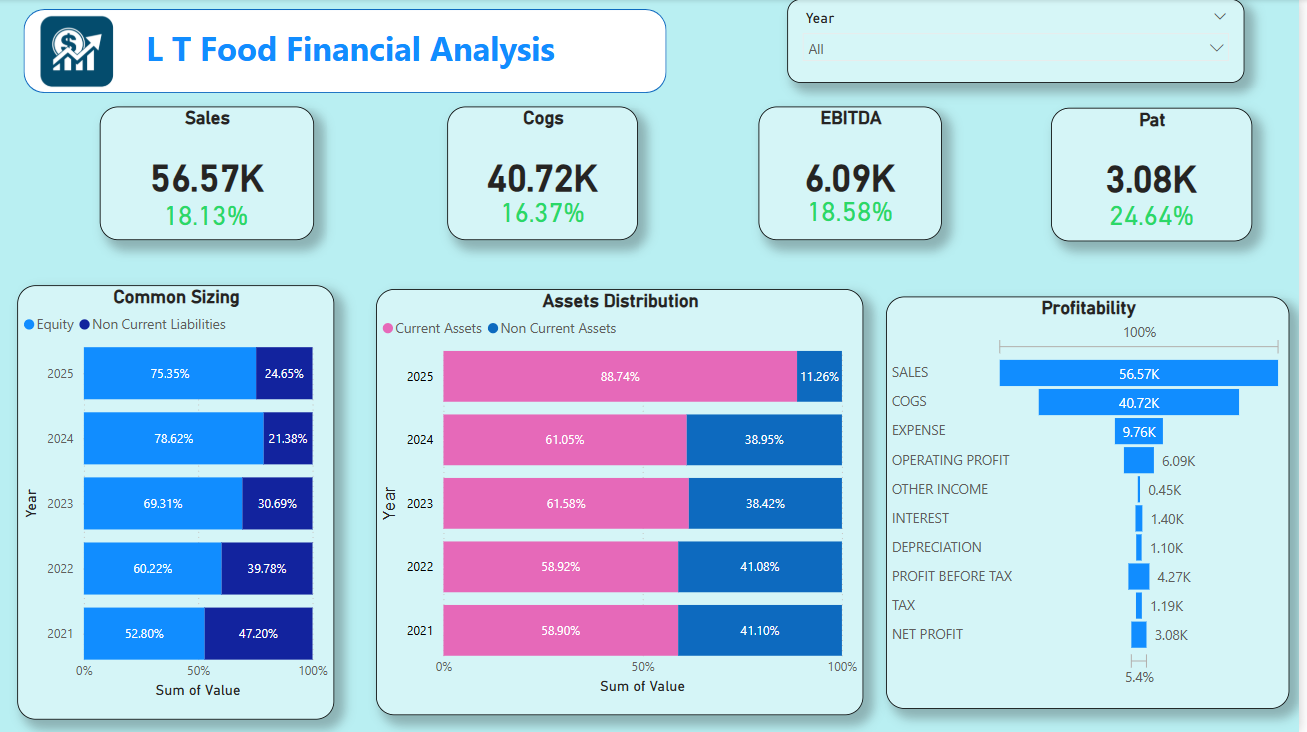

The dashboard page shown, as its layout file describes it:
{"tool":"powerbi","page":{"name":"Summary ","canvas":[1280,720],"ordinal":0},"visuals":[{"type":"shape","box":[27.5,10,631.2,82.5],"z":0},{"type":"image","box":[37.5,10,82.5,82.5],"z":1000},{"type":"card","title":"Sales","fields":{"Values":["Sum(P&L Fact.Value )"]},"box":[101.2,105,210,131.2],"z":2000},{"type":"slicer","fields":{"Values":["Date Dim.Date .Variation.Date Hierarchy.Year"]},"box":[776.2,0,448.8,82.5],"z":3000},{"type":"card","title":"Cogs","fields":{"Values":["Sum(P&L Fact.Value )"]},"box":[442.5,105,187.5,131.2],"z":4000},{"type":"card","title":"EBITDA","fields":{"Values":["Sum(P&L Fact.Value )"]},"box":[748.8,105,180,131.2],"z":5000},{"type":"card","title":"Pat","fields":{"Values":["Sum(P&L Fact.Value )"]},"box":[1035,106.2,197.5,131.2],"z":6000},{"type":"card","fields":{"Values":["P&L Fact.% Change"]},"box":[123.8,171.2,163.8,78.8],"z":7000},{"type":"card","fields":{"Values":["P&L Fact.% Change"]},"box":[741.2,177.5,193.8,58.8],"z":8000},{"type":"card","fields":{"Values":["P&L Fact.% Change"]},"box":[1042.5,185,182.5,51.2],"z":9000},{"type":"card","fields":{"Values":["P&L Fact.% Change"]},"box":[441.2,182.5,188.8,50],"z":10000},{"type":"hundredPercentStackedBarChart","title":"Assets Distribution ","fields":{"Category":["Date Dim.Date .Variation.Date Hierarchy.Year"],"Y":["Sum(BS_Fact.Value)"],"Series":["BS_Fact.BS_Group_Head"]},"box":[372.5,285,478.8,418.8],"z":11000},{"type":"hundredPercentStackedBarChart","title":"Common Sizing ","fields":{"Category":["Date Dim.Date .Variation.Date Hierarchy.Year"],"Y":["Sum(BS_Fact.Value)"],"Series":["BS_Fact.BS_Group_Head"]},"box":[21.2,281.2,311.2,426.2],"z":12000},{"type":"funnel","title":"Profitability","fields":{"Category":["P&L Dim.P&L Main_Head"],"Y":["Sum(P&L Fact.Value )"]},"box":[873.8,292.5,396.2,405],"z":13000},{"type":"textbox","box":[142.5,22.5,491.2,60],"z":14000}]}

Visuals, with their boxes in screenshot pixels (x1, y1, x2, y2), scaled from the page's 1280x720 canvas onto the 1307x732 screenshot:
shape: <bbox>28, 10, 673, 94</bbox>
image: <bbox>38, 10, 123, 94</bbox>
"Sales" card: <bbox>103, 107, 318, 240</bbox>
slicer - Date Dim.Date .Variation.Date Hierarchy.Year: <bbox>793, 0, 1251, 84</bbox>
"Cogs" card: <bbox>452, 107, 643, 240</bbox>
"EBITDA" card: <bbox>765, 107, 948, 240</bbox>
"Pat" card: <bbox>1057, 108, 1258, 241</bbox>
card - P&L Fact.% Change: <bbox>126, 174, 294, 254</bbox>
card - P&L Fact.% Change: <bbox>757, 180, 955, 240</bbox>
card - P&L Fact.% Change: <bbox>1064, 188, 1251, 240</bbox>
card - P&L Fact.% Change: <bbox>451, 186, 643, 236</bbox>
"Assets Distribution " hundredPercentStackedBarChart: <bbox>380, 290, 869, 716</bbox>
"Common Sizing " hundredPercentStackedBarChart: <bbox>22, 286, 339, 719</bbox>
"Profitability" funnel: <bbox>892, 297, 1297, 709</bbox>
textbox: <bbox>146, 23, 647, 84</bbox>
